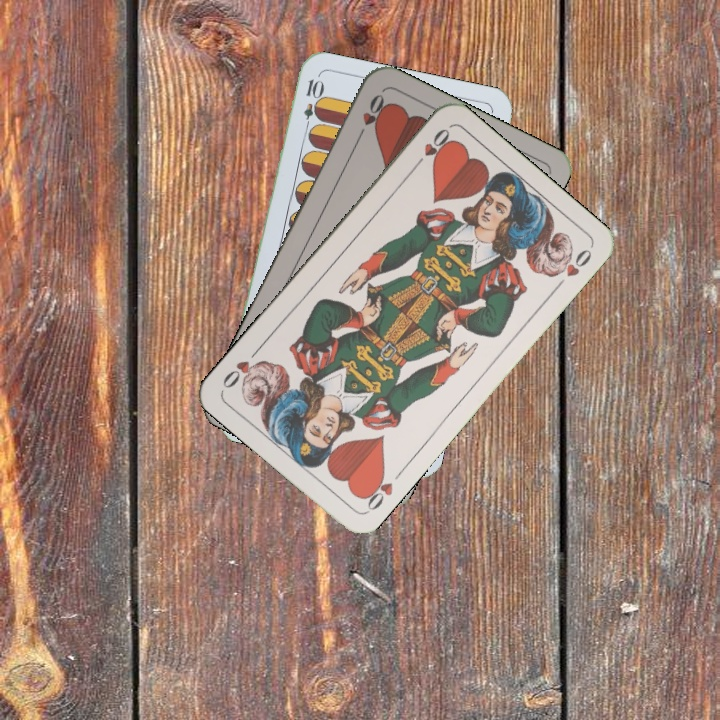E10: (299, 75, 323, 134)
HO: (409, 124, 453, 173), (353, 89, 388, 144), (357, 467, 396, 515)
